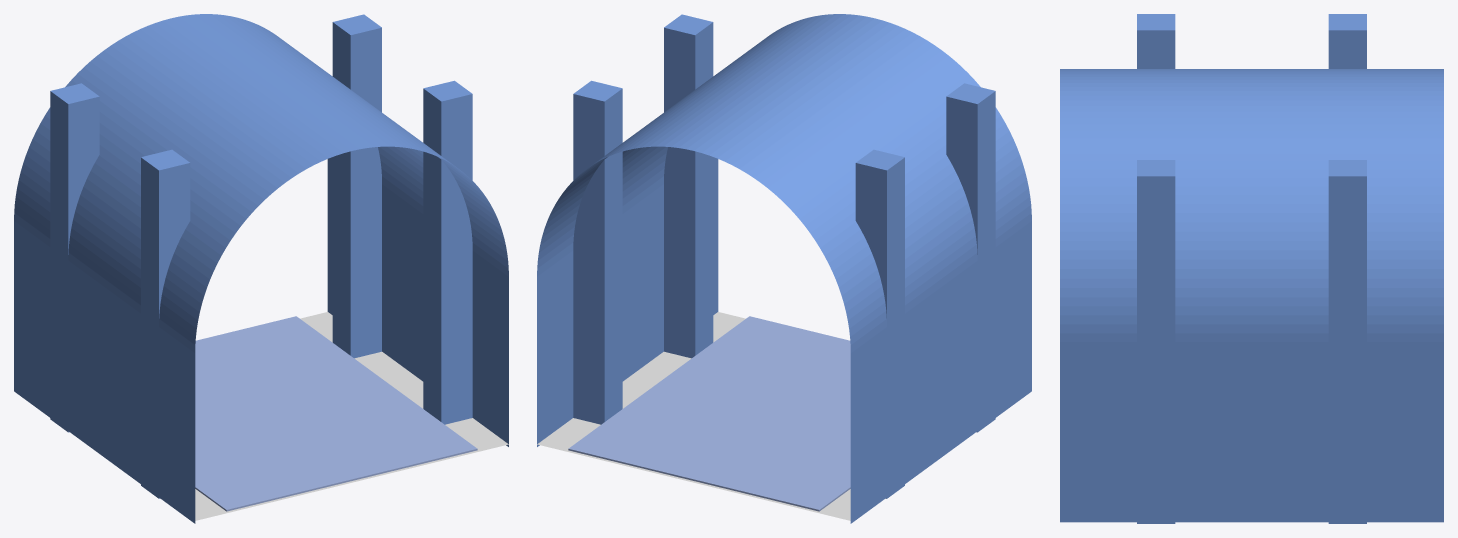
Rendered from scene_corridor.gltf.
3 renders of one model, left to right at view 1: azimuth 30°, elevation 25°; view 2: azimuth 150°, elevation 25°; view 3: azimuth 270°, elevation 25°, orthographic. The views are drawn at different scales.
Parts seen in each view (by area): view 1: Cylinder, Plane, Cube, Cube.001, Cube.003, Cube.002, Plane.001; view 2: Cylinder, Plane, Cube.001, Cube, Cube.002, Cube.003, Plane.001; view 3: Cylinder, Cube, Cube.001, Cube.002, Cube.003.
Part boxes in pixels (x1,y1,x2,y2): Cylinder: [14, 14, 508, 523]; Plane: [195, 316, 477, 511]; Cube: [423, 80, 472, 424]; Cube.001: [332, 14, 381, 358]; Cube.003: [50, 83, 99, 432]; Cube.002: [141, 149, 190, 498]; Plane.001: [195, 312, 508, 520]; Cylinder: [537, 14, 1031, 523]; Plane: [568, 316, 850, 511]; Cube.001: [573, 80, 622, 424]; Cube: [664, 14, 713, 358]; Cube.002: [946, 83, 995, 432]; Cube.003: [855, 149, 904, 498]; Plane.001: [537, 312, 850, 520]; Cylinder: [1060, 69, 1443, 522]; Cube: [1137, 160, 1175, 523]; Cube.001: [1328, 160, 1366, 523]; Cube.002: [1137, 14, 1175, 68]; Cube.003: [1328, 14, 1366, 68].
Bounding box in the file's own units: 20 × 20.47 × 20.
